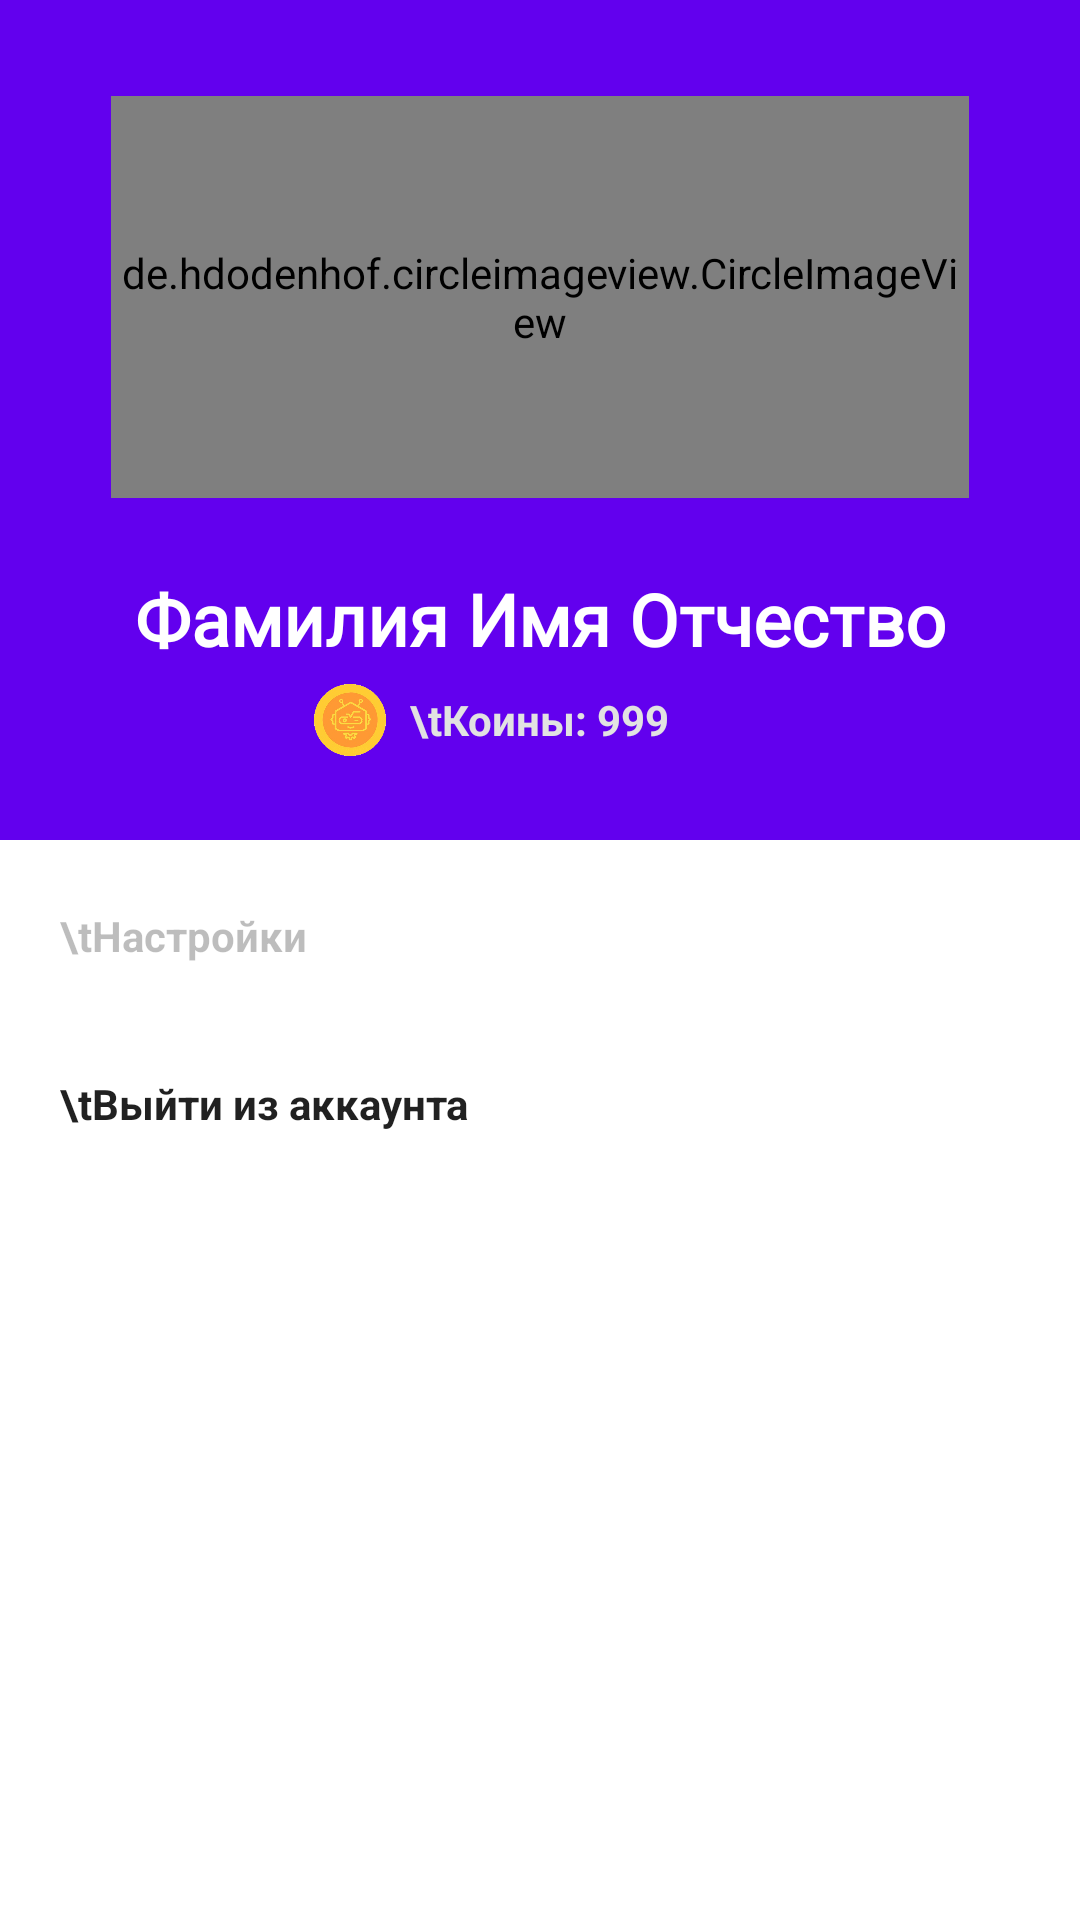

Screen size 1080px×1920px. Icon name, then its center in pixels as (x,y):
stem coin: (350,720)
